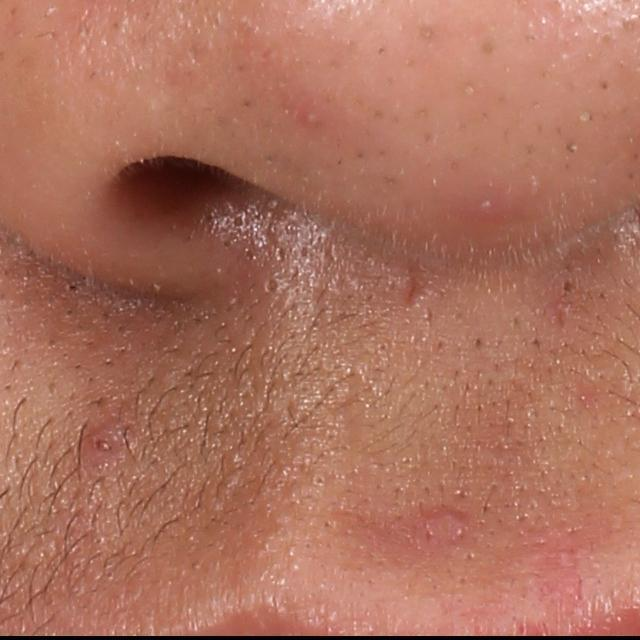atrophic_scar: (403, 271, 424, 312)
comedo: (260, 275, 284, 301), (559, 275, 581, 302)
papule: (429, 506, 469, 535)
